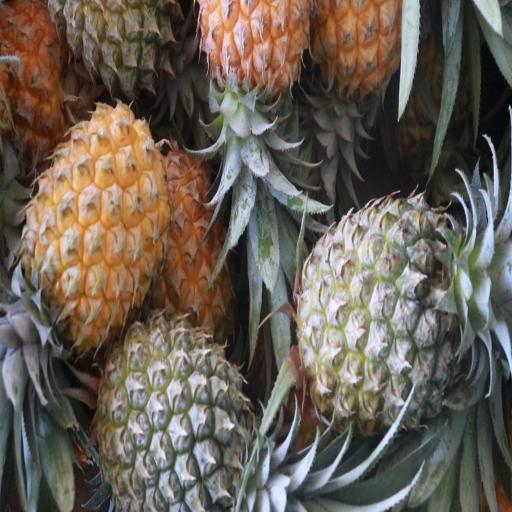------------------------------: (48, 0, 182, 106)
Pineapple - v8 v1: (23, 102, 170, 347), (149, 146, 238, 332), (195, 0, 310, 101), (312, 0, 412, 101)
